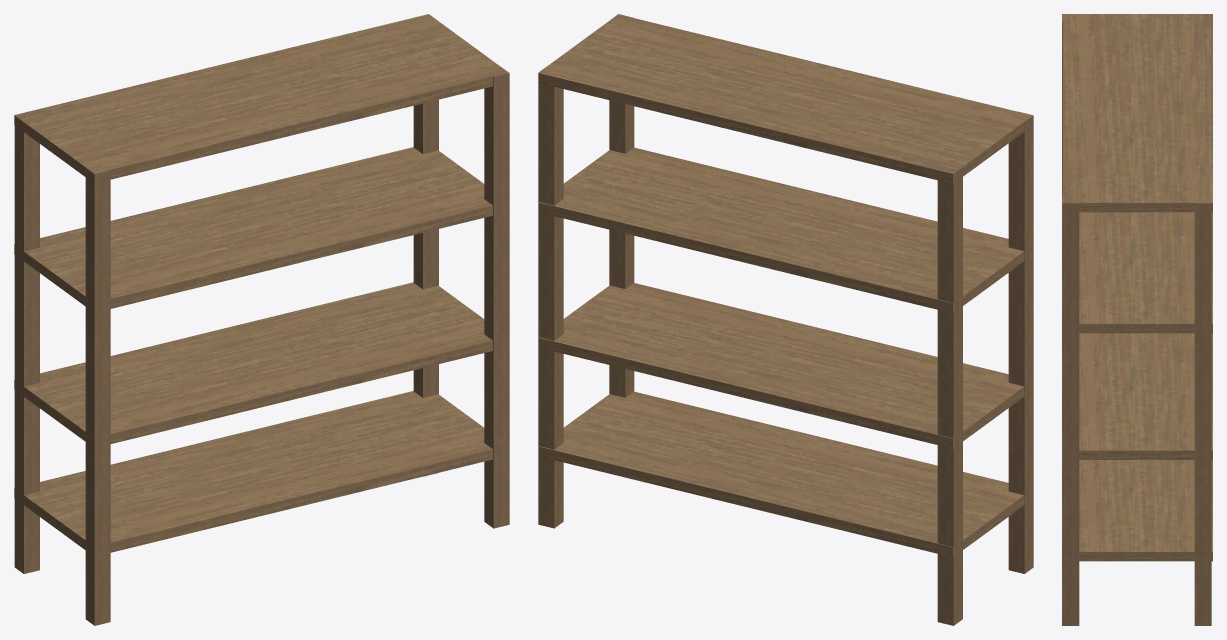
File: PIG_shelf.glb
3 renders of one model, left to right at view 1: azimuth 30°, elevation 25°; view 2: azimuth 150°, elevation 25°; view 3: azimuth 270°, elevation 25°, orthographic. The views are drawn at different scales.
Visible parts, largest first — view 1: Cube; view 2: Cube; view 3: Cube.
Boxes of the visible parts, x1,y1,x2,y2 form: Cube: (14, 14, 509, 625); Cube: (538, 14, 1033, 625); Cube: (1062, 14, 1212, 625).
Size of the model in its own units: 5.99 by 6.23 by 2.01.
Materials: 1 (1 with a texture image).
